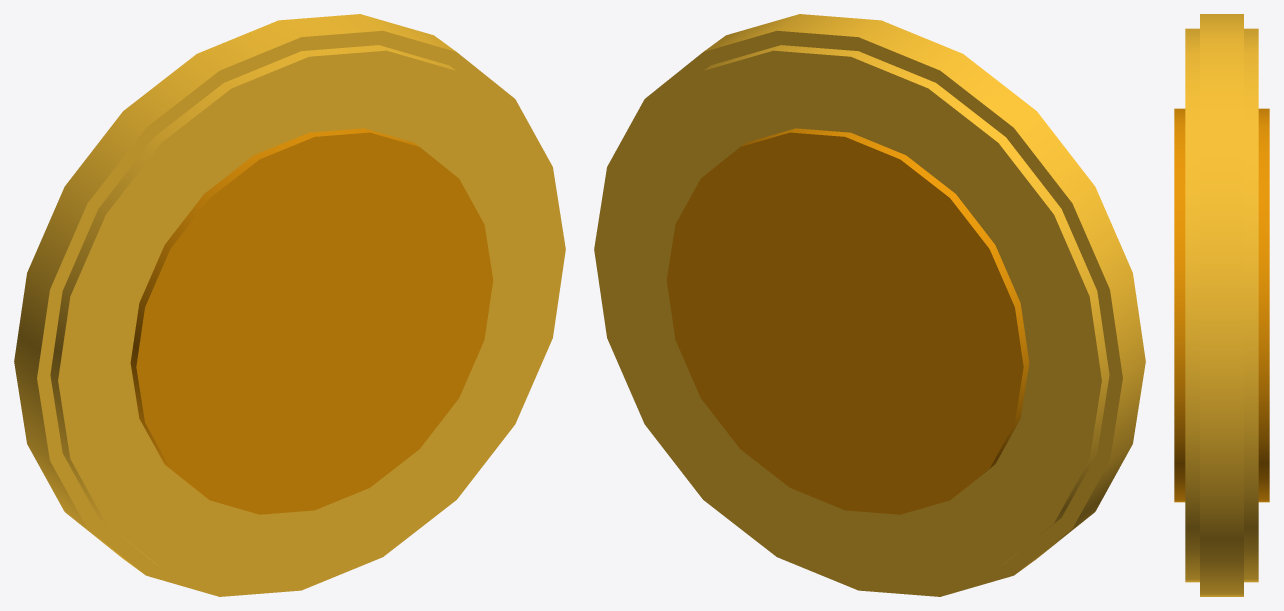
The model's file is coin.glb.
The picture shows the model from 3 angles, left to right: view 1: azimuth 30°, elevation 25°; view 2: azimuth 150°, elevation 25°; view 3: azimuth 270°, elevation 25°; orthographic projection. The views are drawn at different scales.
Parts seen in each view (by area): view 1: coin; view 2: coin; view 3: coin.
Boxes of the visible parts, x1,y1,x2,y2 form: coin: (14, 14, 565, 596); coin: (594, 14, 1145, 596); coin: (1174, 14, 1269, 596).
Bounding box in the file's own units: 0.8 × 0.8 × 0.13.
